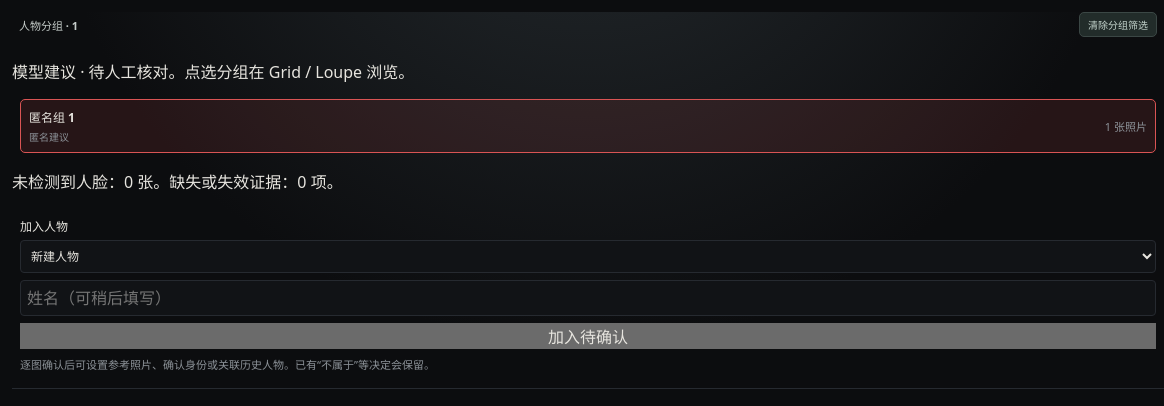
it: adds to an existing named person only through an explicit pending-review action
Step 1. Select "已有姓名" in the dropdown labelled "加入人物" → (588, 256), box top-left (20, 240), bottom-right (1156, 273)
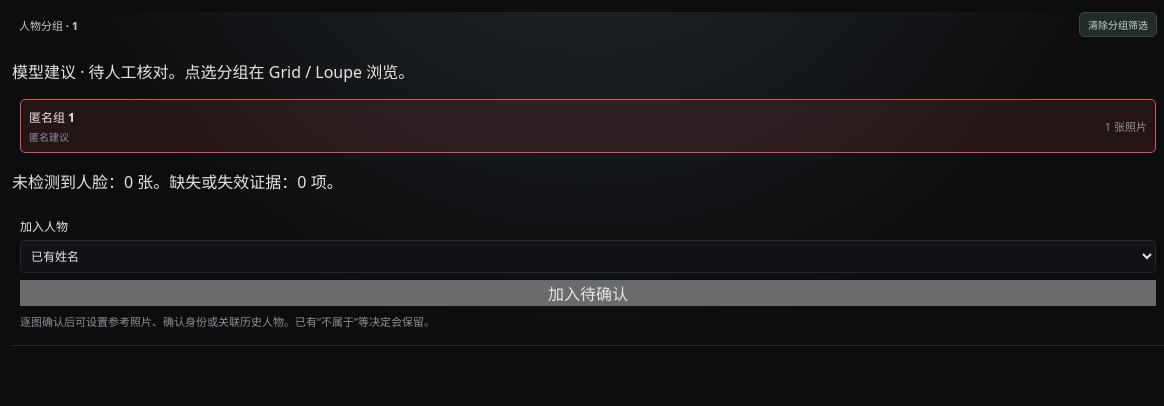
Step 2. Click the button "加入待确认" → (588, 293), box top-left (20, 280), bottom-right (1156, 306)
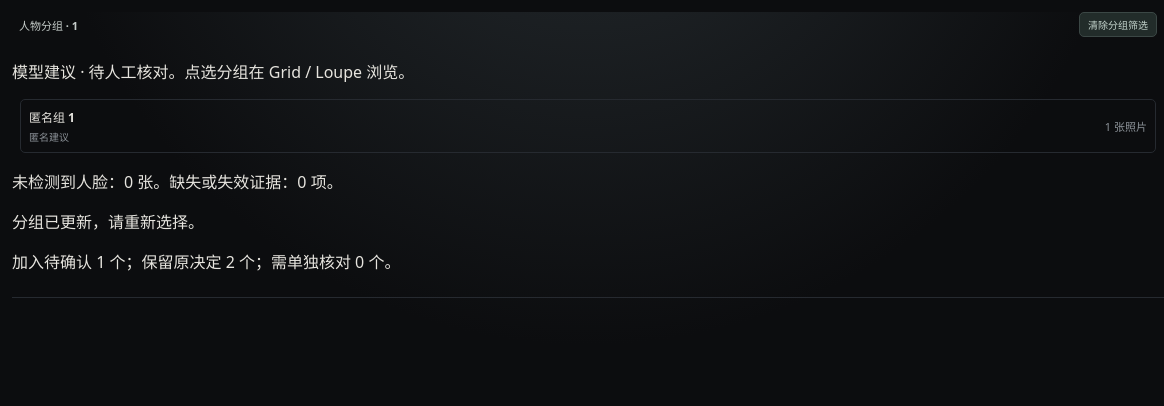
expect the text "保留原决定 2 个" is shown: met, box top-left (12, 251), bottom-right (400, 273)
expect the form is gone: met
expect the text "分组已更新" is shown: met, box top-left (12, 211), bottom-right (204, 233)
